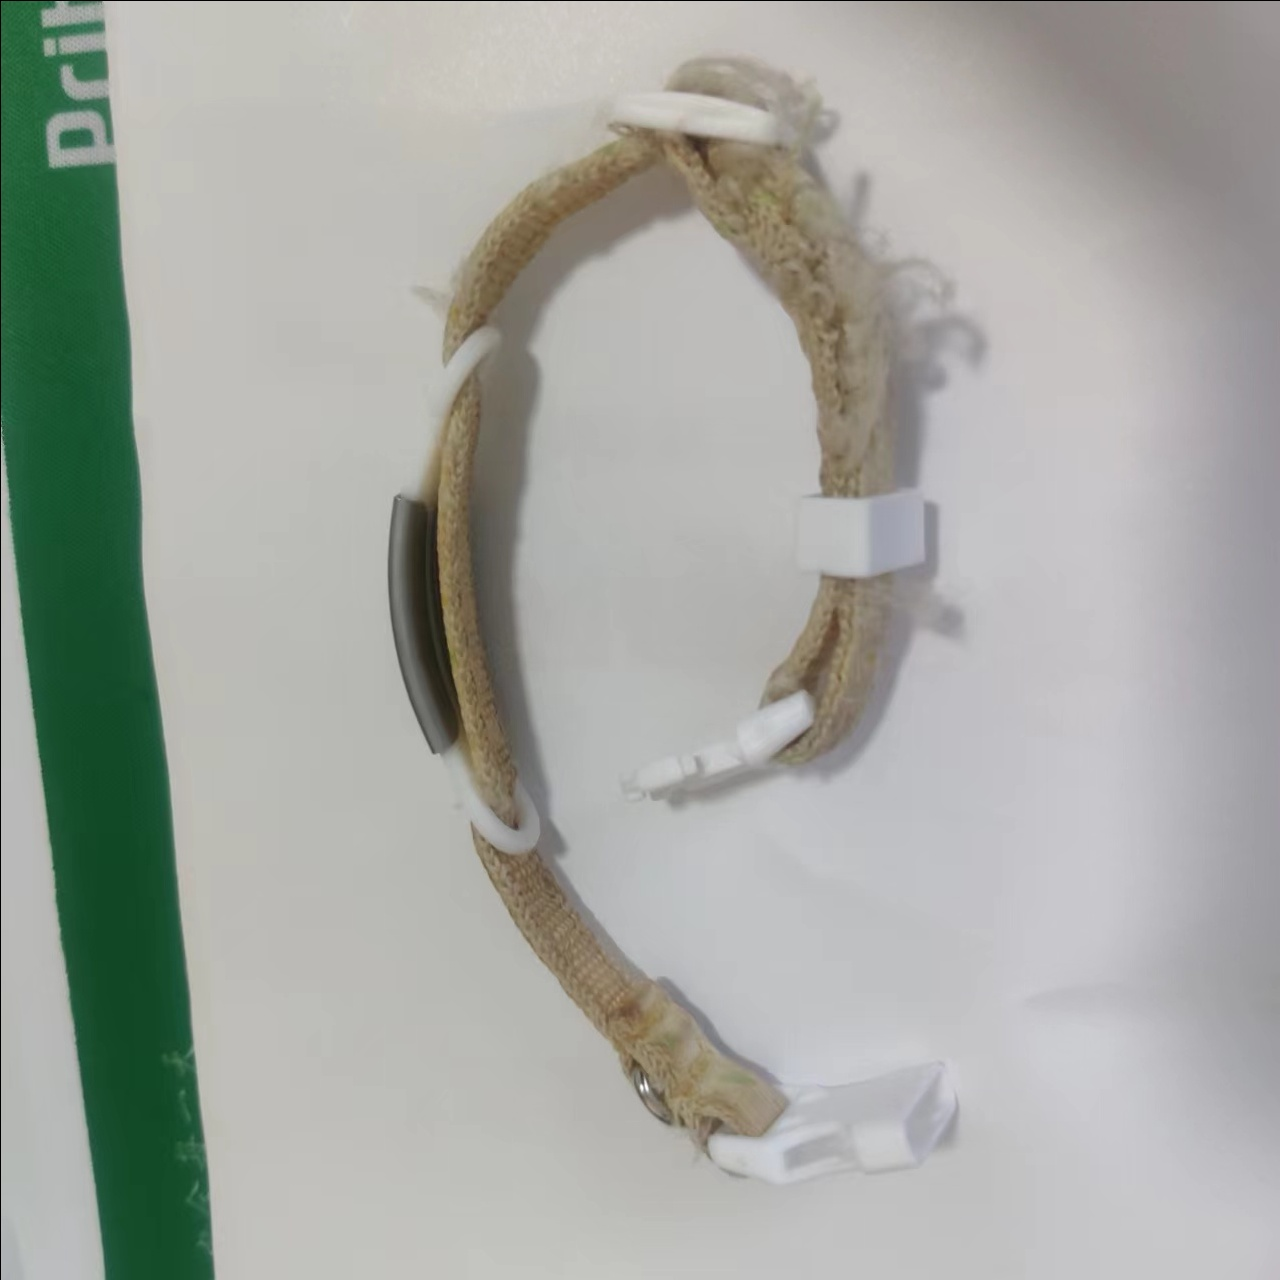9/可回收垃圾/绳子: (384, 54, 960, 1189)
